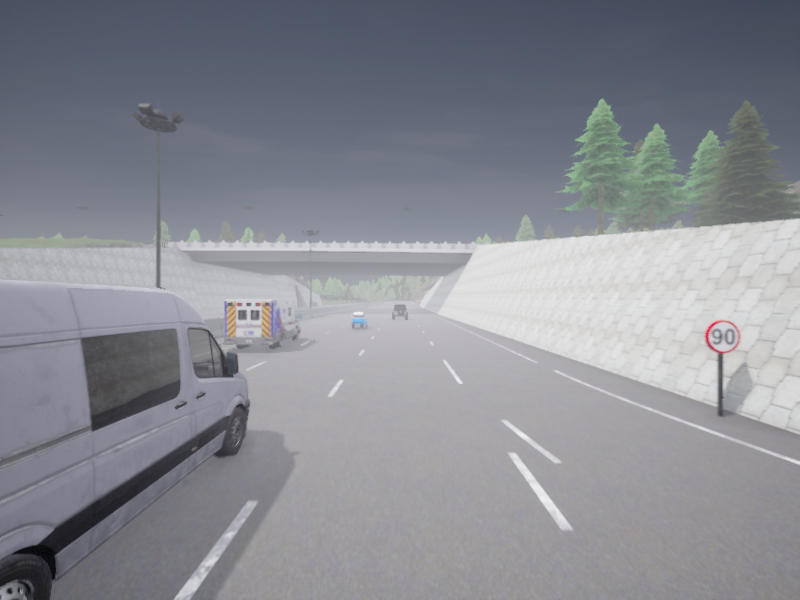vehicle: (0, 280, 249, 599), (223, 300, 301, 347), (351, 312, 367, 328), (392, 304, 407, 318)
